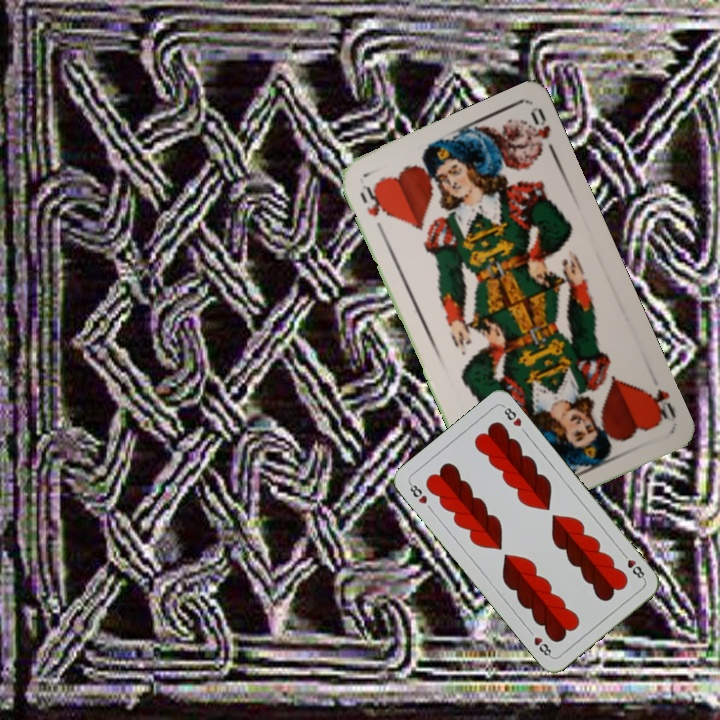H8: (618, 548, 648, 583), (405, 479, 430, 507)
HO: (355, 180, 390, 237), (642, 385, 679, 426)
